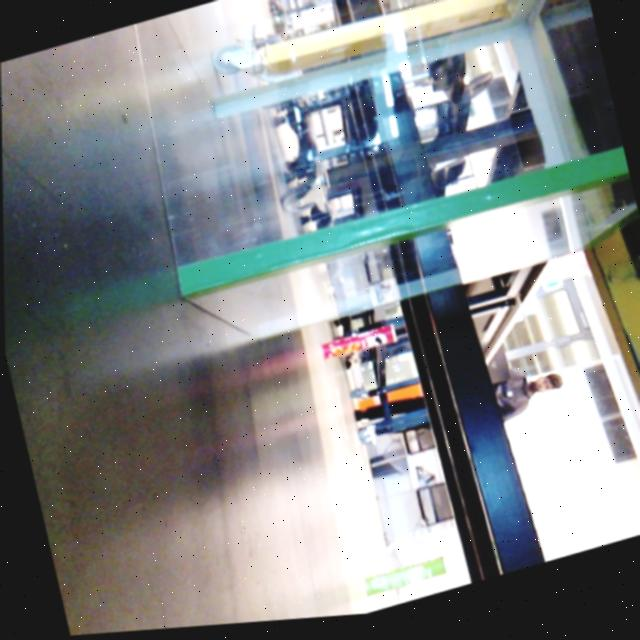greenpringles: (354, 548, 455, 617)
redpringles: (305, 320, 409, 378)
